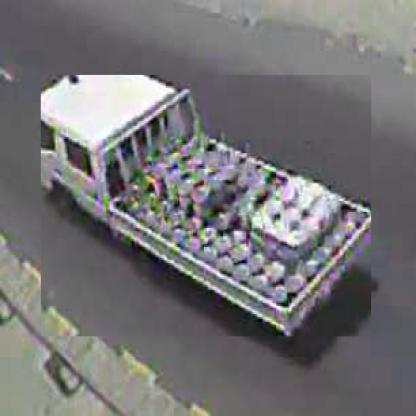truck: (42, 76, 373, 339)
